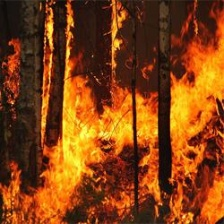fire: (40, 8, 222, 199)
